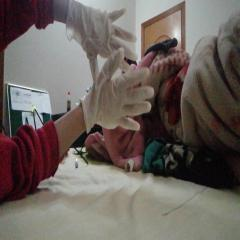gloved: (84, 47, 154, 132), (66, 0, 138, 78)
